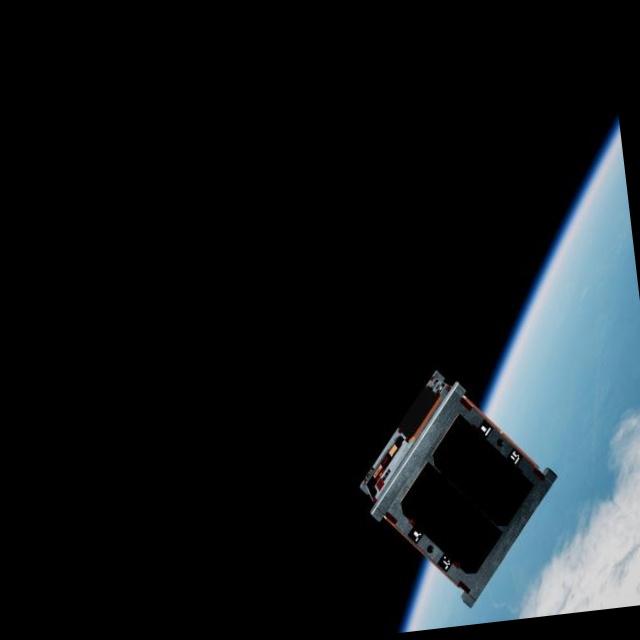medium_debris: (335, 360, 572, 622)
